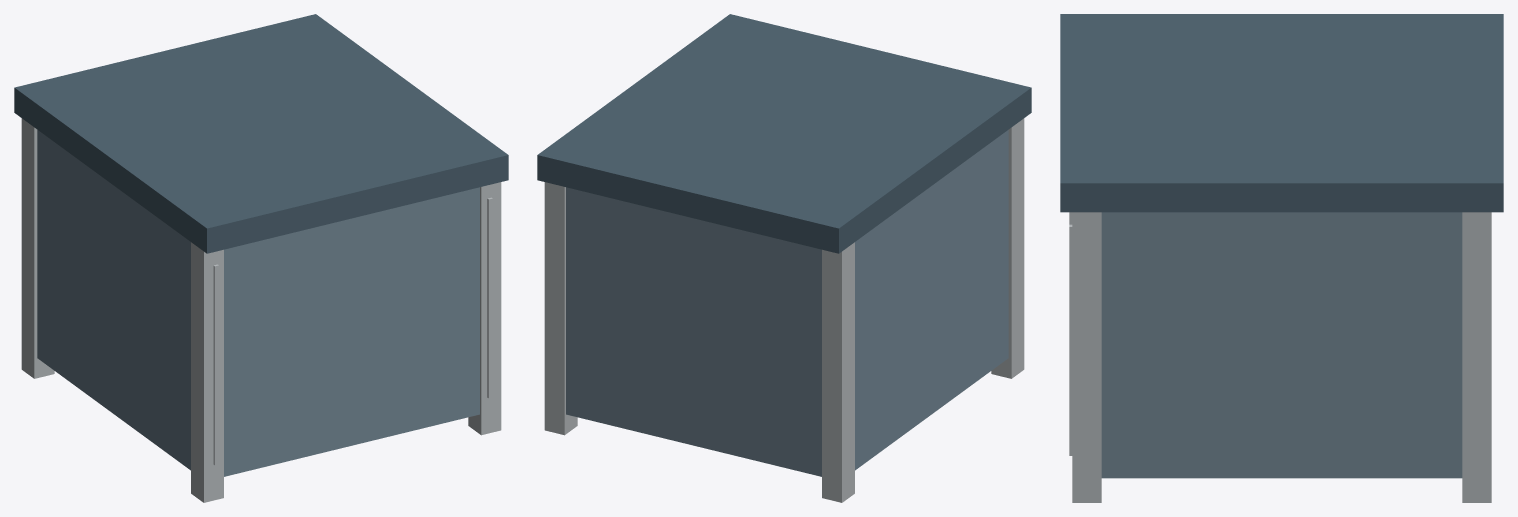
The model's file is 12_L73_WaferCarrierCassette.glb.
The picture shows the model from 3 angles, left to right: view 1: azimuth 30°, elevation 25°; view 2: azimuth 150°, elevation 25°; view 3: azimuth 270°, elevation 25°; orthographic projection. The views are drawn at different scales.
Parts seen in each view (by area): view 1: WaferCarrierCassette_Node_0000, WaferCarrierCassette_Node_0037, WaferCarrierCassette_Node_0034, WaferCarrierCassette_Node_0036, WaferCarrierCassette_Node_0033, WaferCarrierCassette_Node_0005, WaferCarrierCassette_Node_0006; view 2: WaferCarrierCassette_Node_0000, WaferCarrierCassette_Node_0037, WaferCarrierCassette_Node_0033, WaferCarrierCassette_Node_0035, WaferCarrierCassette_Node_0034; view 3: WaferCarrierCassette_Node_0000, WaferCarrierCassette_Node_0037, WaferCarrierCassette_Node_0035, WaferCarrierCassette_Node_0036, WaferCarrierCassette_Node_0006.
Part boxes in pixels (x1=…): WaferCarrierCassette_Node_0000: x1=37, y1=130, x2=479, y2=476; WaferCarrierCassette_Node_0037: x1=14, y1=14, x2=508, y2=253; WaferCarrierCassette_Node_0034: x1=191, y1=242, x2=223, y2=502; WaferCarrierCassette_Node_0036: x1=468, y1=182, x2=501, y2=435; WaferCarrierCassette_Node_0033: x1=21, y1=118, x2=54, y2=378; WaferCarrierCassette_Node_0005: x1=213, y1=264, x2=218, y2=465; WaferCarrierCassette_Node_0006: x1=487, y1=197, x2=492, y2=398; WaferCarrierCassette_Node_0000: x1=566, y1=130, x2=1008, y2=476; WaferCarrierCassette_Node_0037: x1=537, y1=14, x2=1031, y2=253; WaferCarrierCassette_Node_0033: x1=822, y1=242, x2=854, y2=502; WaferCarrierCassette_Node_0035: x1=544, y1=182, x2=577, y2=435; WaferCarrierCassette_Node_0034: x1=991, y1=118, x2=1024, y2=378; WaferCarrierCassette_Node_0000: x1=1101, y1=212, x2=1462, y2=478; WaferCarrierCassette_Node_0037: x1=1060, y1=14, x2=1503, y2=212; WaferCarrierCassette_Node_0035: x1=1462, y1=212, x2=1491, y2=502; WaferCarrierCassette_Node_0036: x1=1072, y1=212, x2=1101, y2=502; WaferCarrierCassette_Node_0006: x1=1069, y1=224, x2=1072, y2=455.
Size of the model in its own units: 1.5 by 1.32 by 1.66.
